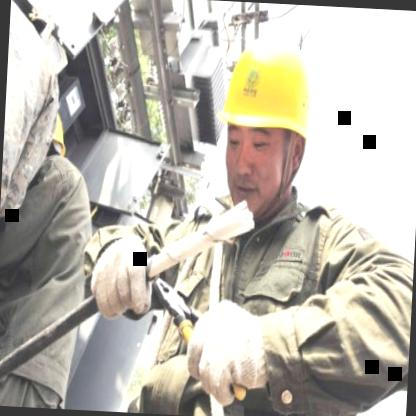helmet: (203, 13, 332, 226)
